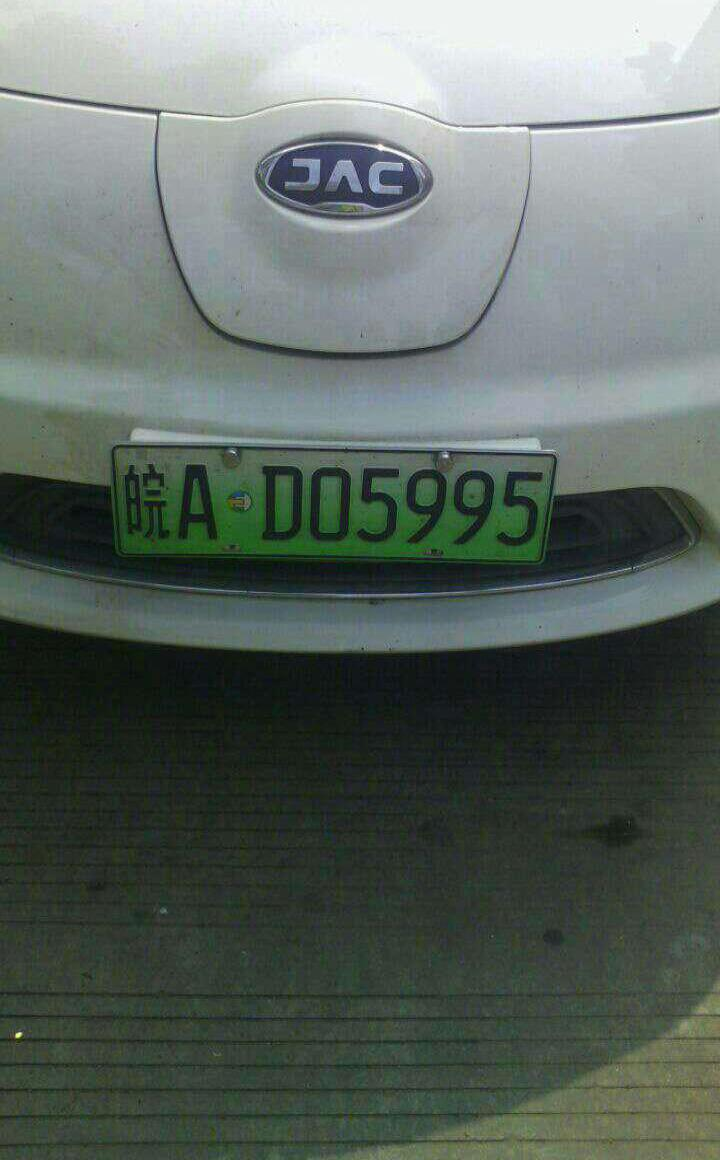car_id: (111, 446, 554, 564)
